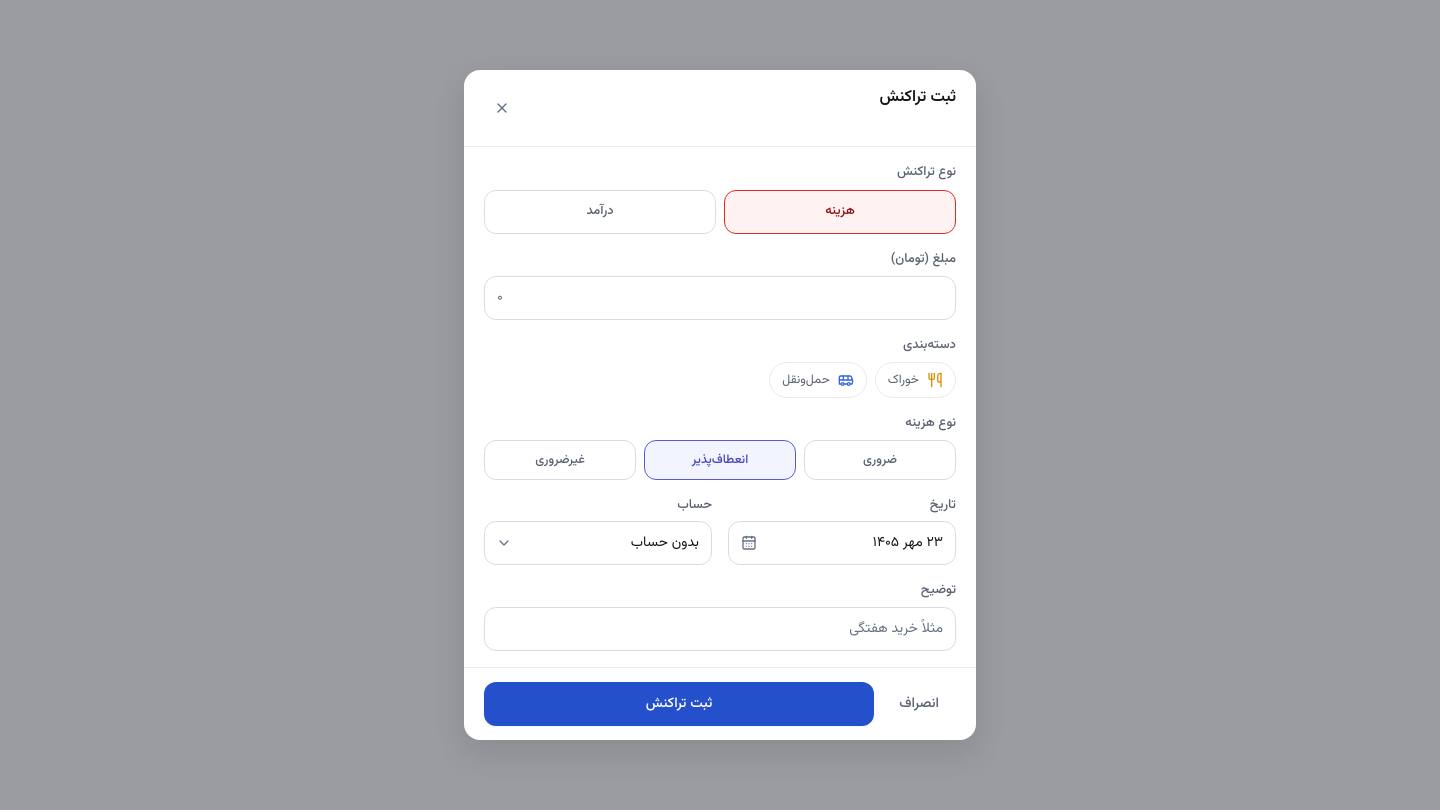
Test: TransactionForm › shows validation messages for an empty amount and category
Click the button "ثبت تراکنش" at (679, 704), box [484,682,874,726]
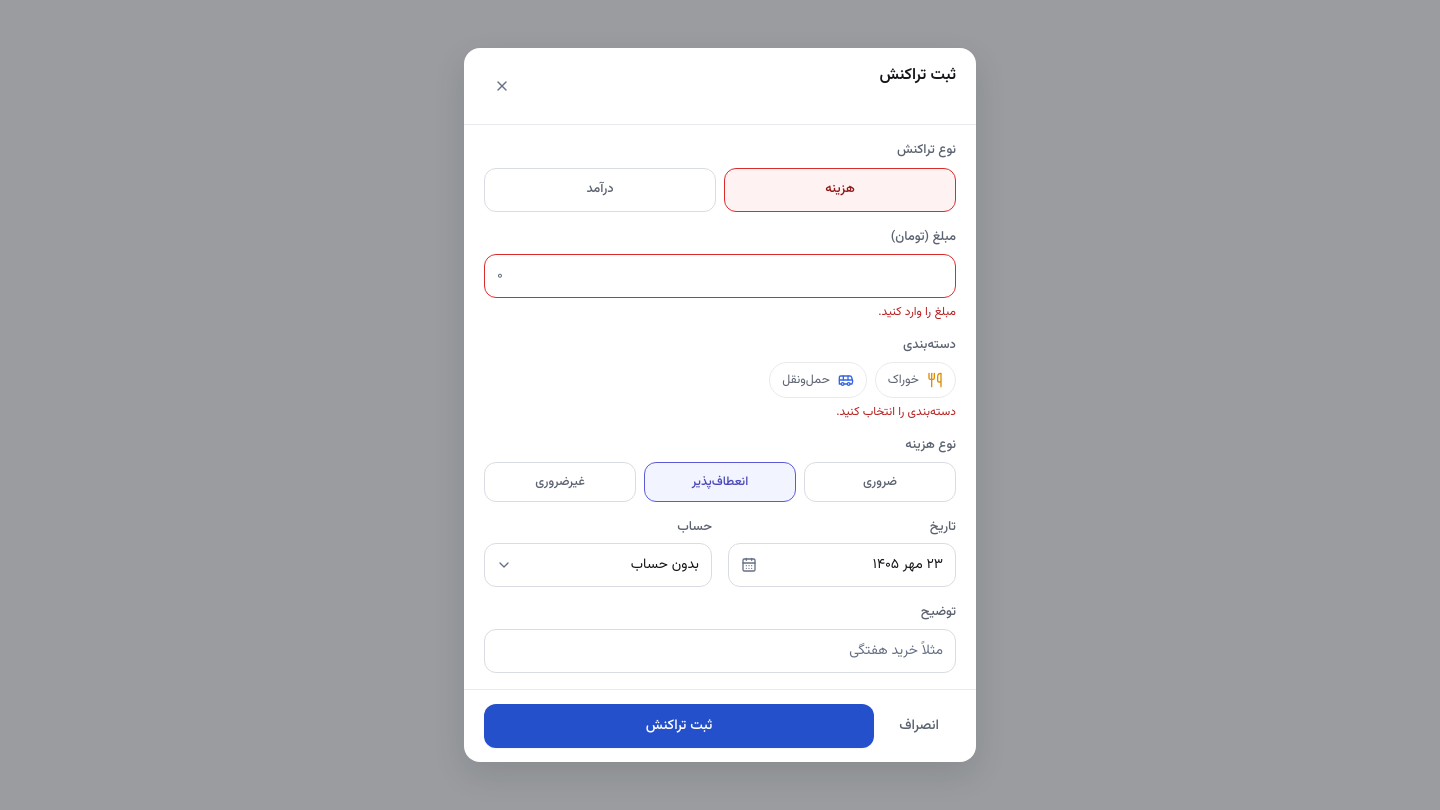
Now the text "مبلغ را وارد کنید." is shown, box [878,303,956,321]
Now the text "دسته‌بندی را انتخاب کنید." is shown, box [836,403,956,421]
